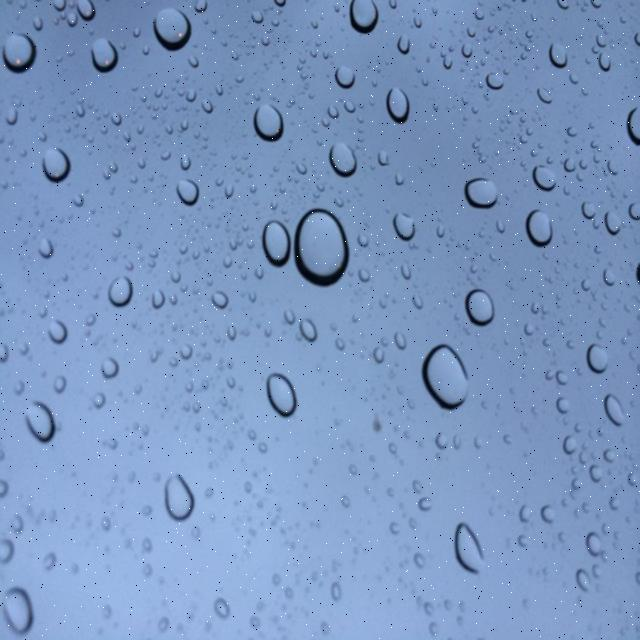raindrop: (292, 192, 364, 296), (436, 496, 496, 587), (418, 330, 478, 417), (253, 354, 307, 431), (0, 14, 50, 94), (250, 206, 300, 282), (135, 0, 202, 55), (73, 28, 134, 88), (316, 128, 367, 191), (242, 89, 293, 152), (21, 385, 66, 456), (373, 71, 418, 137), (454, 167, 507, 222), (30, 138, 81, 194), (160, 464, 203, 530), (452, 278, 502, 334), (520, 196, 560, 259), (162, 163, 208, 216), (520, 149, 564, 203), (0, 578, 34, 640), (101, 272, 145, 314), (386, 201, 418, 256), (348, 0, 386, 45), (578, 338, 616, 382), (544, 30, 577, 79), (600, 388, 631, 434), (330, 57, 358, 97), (208, 589, 236, 626)
